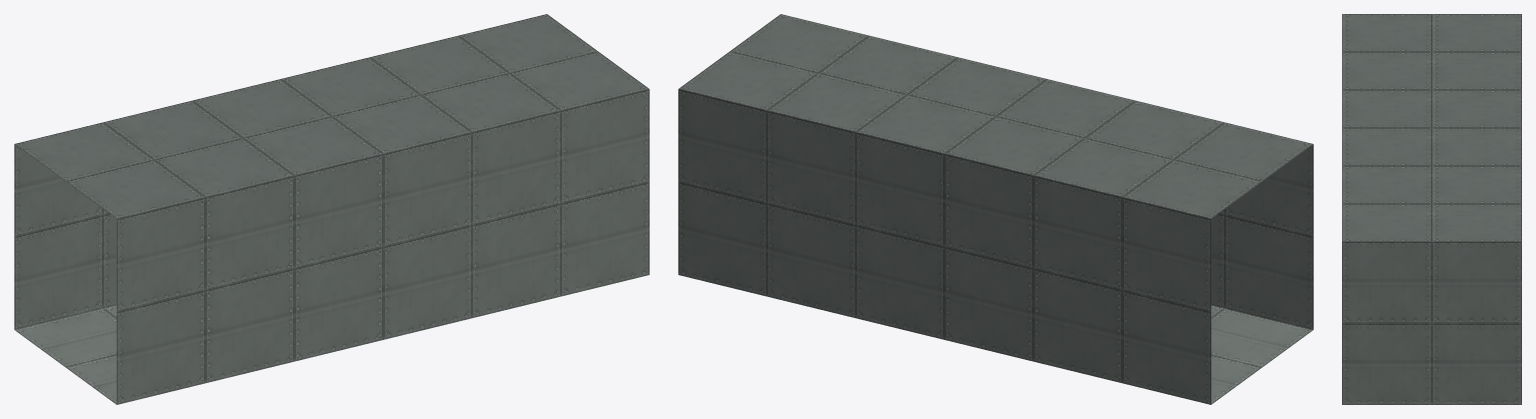
File: ductend.obj
The picture shows the model from 3 angles, left to right: view 1: azimuth 30°, elevation 25°; view 2: azimuth 150°, elevation 25°; view 3: azimuth 270°, elevation 25°; orthographic projection. The views are drawn at different scales.
Size of the model in its own units: 240 by 80 by 80.
Materials: 2 (2 with a texture image).
